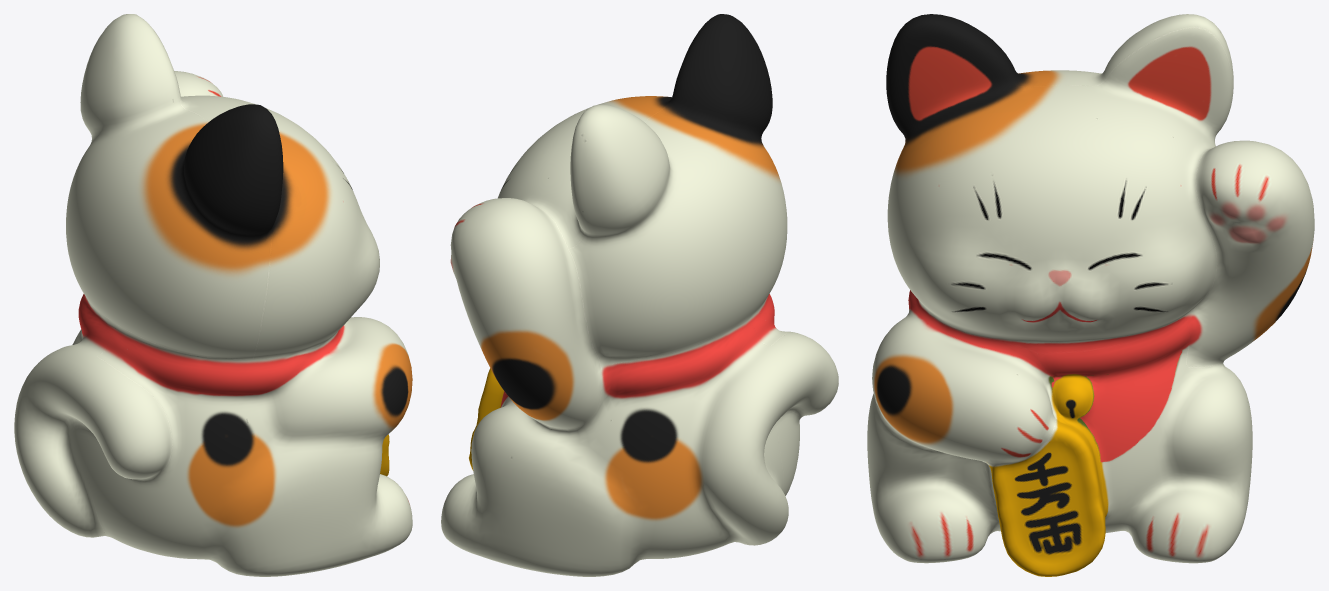
3 renders of one model, left to right at view 1: azimuth 30°, elevation 25°; view 2: azimuth 150°, elevation 25°; view 3: azimuth 270°, elevation 25°, orthographic. The views are drawn at different scales.
Visible parts, largest first — view 1: Retopo_Nekomata.001; view 2: Retopo_Nekomata.001; view 3: Retopo_Nekomata.001.
Boxes of the visible parts, <box> form: Retopo_Nekomata.001: <box>14,14,412,576</box>; Retopo_Nekomata.001: <box>441,14,838,576</box>; Retopo_Nekomata.001: <box>867,14,1314,576</box>.
Bounding box in the file's own units: 1.3 × 1.79 × 1.51.
1 material, 1 textured.
